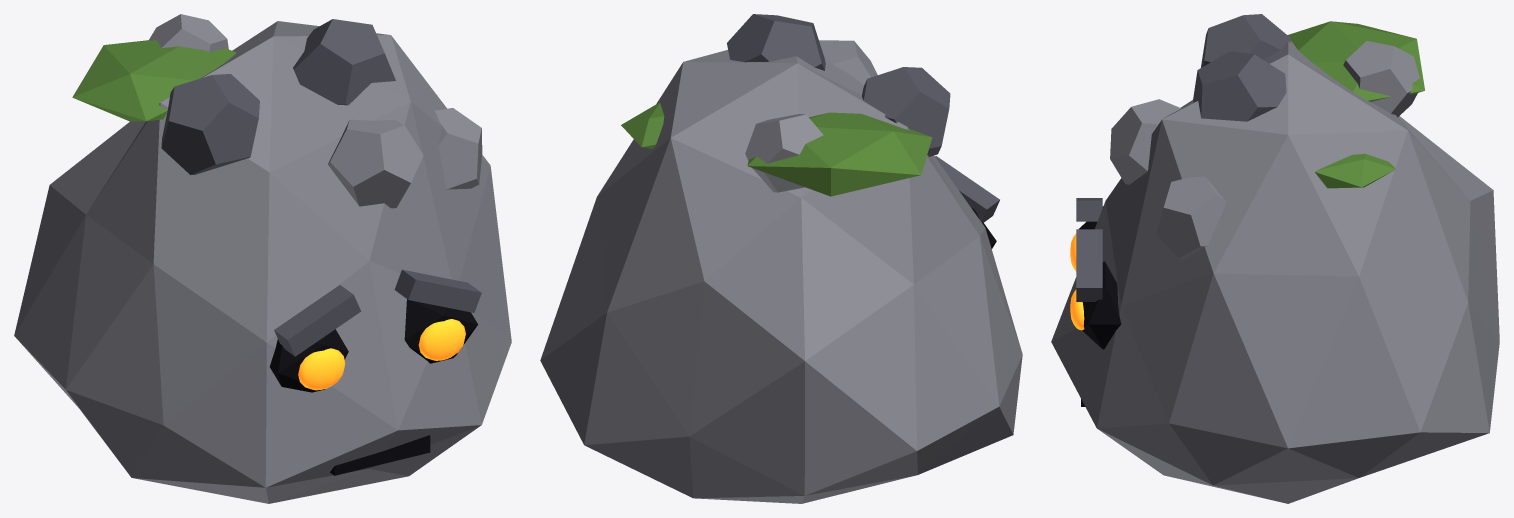
The model's file is slime_stone.glb.
The picture shows the model from 3 angles, left to right: view 1: azimuth 30°, elevation 25°; view 2: azimuth 150°, elevation 25°; view 3: azimuth 270°, elevation 25°; orthographic projection. The views are drawn at different scales.
Visible parts, largest first — view 1: Rock, Moss, Chunk1, Chunk4, Chunk3, Chunk0, Brow, Brow_02, Chunk2, Socket_02, Socket, EyeGlow (+2 smaller); view 2: Rock, Moss, Chunk1, Chunk3, Chunk2, Chunk4, Brow, Moss2; view 3: Rock, Chunk3, Moss, Chunk0, Chunk2, Chunk4, Chunk1, Brow_02, Moss2, Socket_02, Brow.
Part boxes in pixels (x1=…): Rock: x1=14, y1=21, x2=511, y2=503; Moss: x1=72, y1=40, x2=236, y2=121; Chunk1: x1=161, y1=74, x2=259, y2=174; Chunk4: x1=328, y1=119, x2=423, y2=208; Chunk3: x1=293, y1=19, x2=395, y2=105; Chunk0: x1=435, y1=108, x2=482, y2=189; Brow: x1=274, y1=285, x2=361, y2=356; Brow_02: x1=394, y1=269, x2=481, y2=312; Chunk2: x1=148, y1=14, x2=228, y2=52; Socket_02: x1=404, y1=299, x2=477, y2=363; Socket: x1=269, y1=329, x2=348, y2=392; EyeGlow: x1=298, y1=348, x2=345, y2=390; Rock: x1=540, y1=50, x2=1022, y2=503; Moss: x1=747, y1=112, x2=932, y2=196; Chunk1: x1=862, y1=67, x2=950, y2=156; Chunk3: x1=727, y1=14, x2=825, y2=70; Chunk2: x1=745, y1=114, x2=823, y2=192; Chunk4: x1=819, y1=40, x2=877, y2=84; Brow: x1=935, y1=156, x2=999, y2=222; Moss2: x1=621, y1=102, x2=664, y2=148; Rock: x1=1051, y1=40, x2=1499, y2=503; Chunk3: x1=1193, y1=51, x2=1286, y2=121; Moss: x1=1287, y1=21, x2=1424, y2=101; Chunk0: x1=1156, y1=176, x2=1226, y2=259; Chunk2: x1=1343, y1=41, x2=1419, y2=117; Chunk4: x1=1110, y1=99, x2=1181, y2=184; Chunk1: x1=1201, y1=14, x2=1290, y2=67; Brow_02: x1=1076, y1=229, x2=1102, y2=301; Moss2: x1=1315, y1=153, x2=1395, y2=188; Socket_02: x1=1082, y1=261, x2=1121, y2=349; Brow: x1=1076, y1=198, x2=1102, y2=221.
Size of the model in its own units: 0.9143 by 0.9031 by 0.855.
